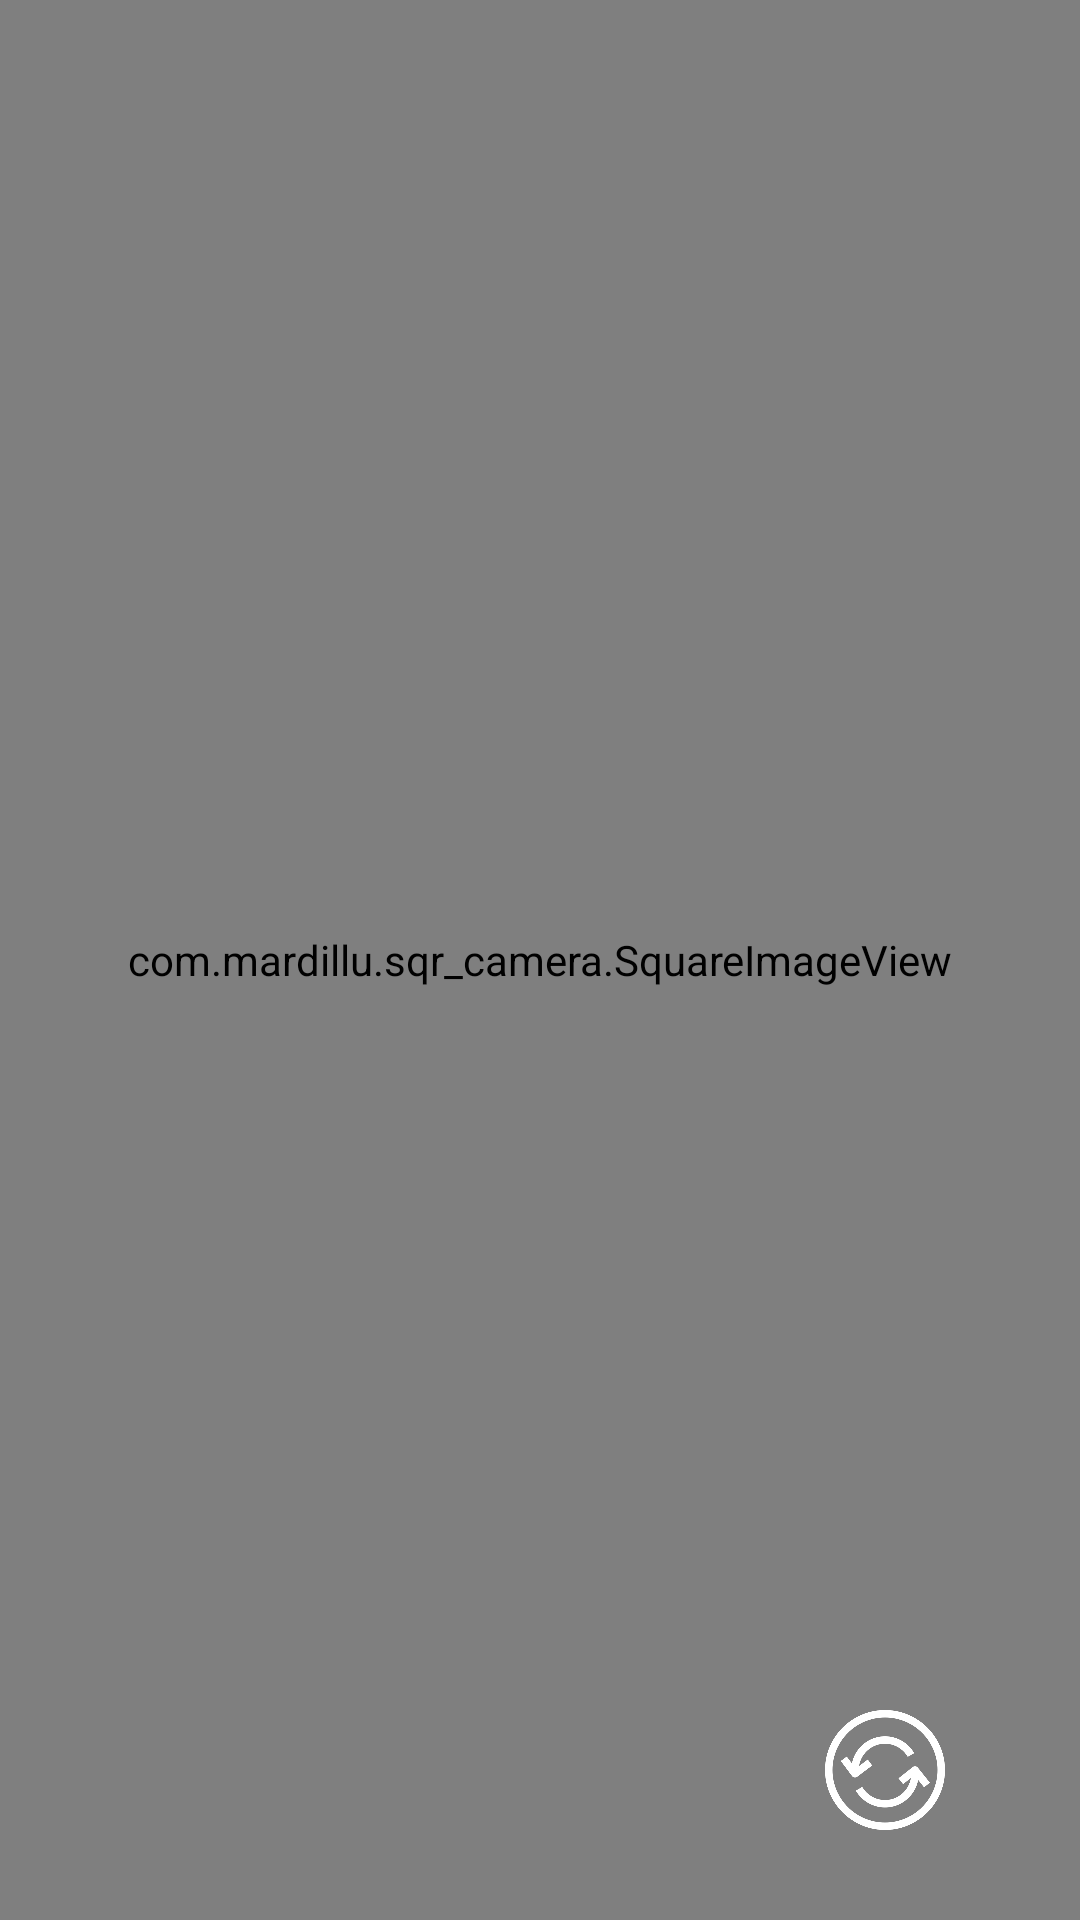

Icon bounding boxes for this 1080px x 1920px phone screenshot, format (x1, y1, x2, y2):
squarecamera camera retry: (825, 1710, 945, 1830)
